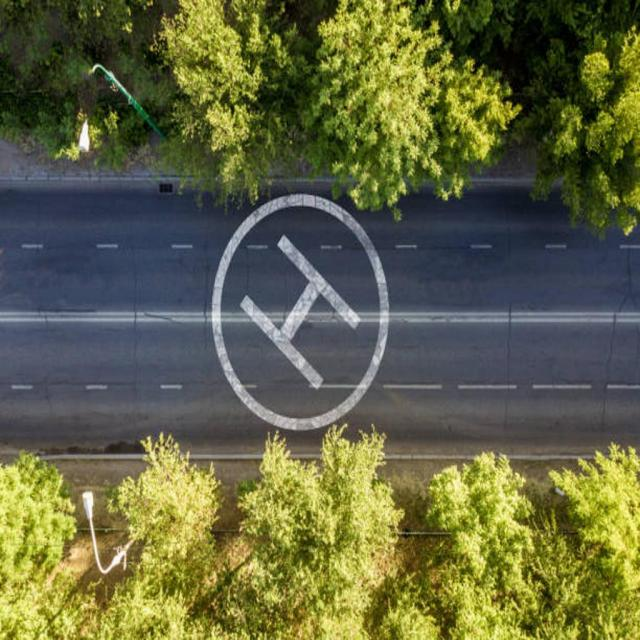helipad: (210, 192, 390, 430)
